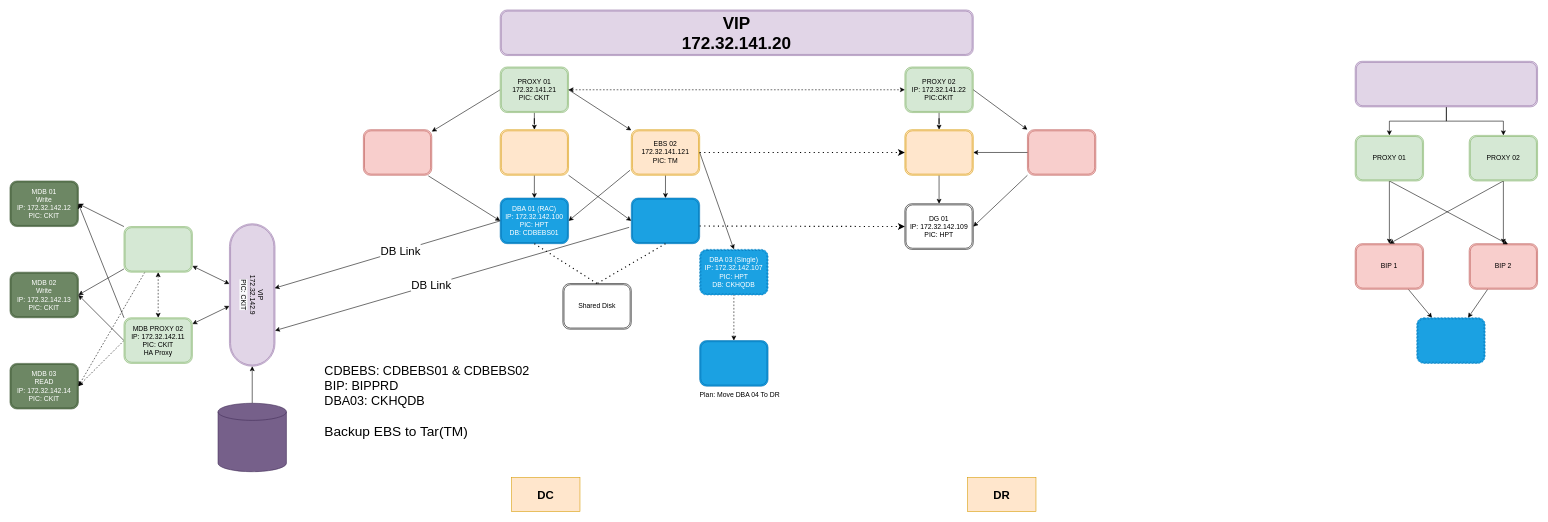
The diagram is 1548 pixels wide and 522 high, and some of its shapes have lost their labels. Here are the shapes that lost their labels. From the top down, the centre of each, then its label:
the point at 1446,84: VIP
the point at 397,152: BIP 172.32.141.122 PIC: TM DB: BIPPRD
the point at 534,152: EBS 01 172.32.141.120 PIC: TM
the point at 938,152: EBS 03 IP: 172.32.141.124 PIC: TM
the point at 1061,152: BIP ' IP: 172.32.141.122 PIC: TM
the point at 665,221: DBA 02 (RAC) IP:172.32.142.101 PIC: HPT DB: CDBEBS02
the point at 157,249: MDB PROXY 01 IP: 172.32.142.10 PIC: CKIT HA Proxy
the point at 1450,340: Oracle Metadata Services (MDS)
the point at 733,363: DBA 04 (Single) IP: 172.32.142.108 PIC: HPT DB: CKHQDB
the point at 251,437: RAW Data NRI
